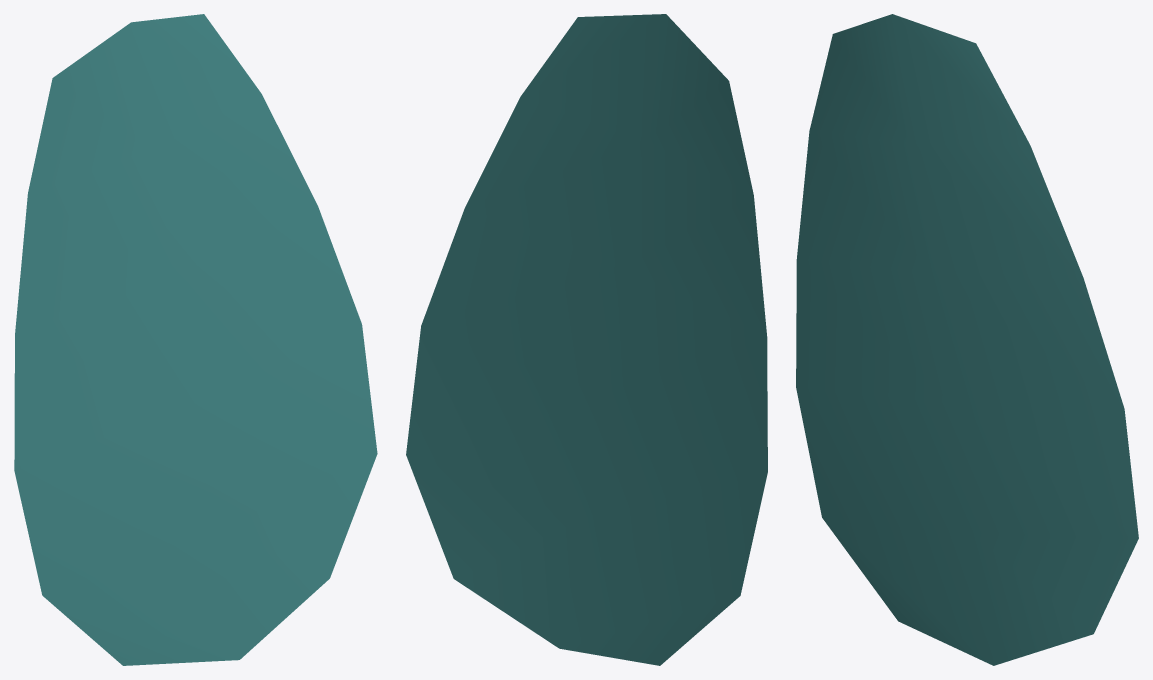
Rendered from budgie_feather_flight_tertiary_014.obj.
The picture shows the model from 3 angles, left to right: view 1: azimuth 30°, elevation 25°; view 2: azimuth 150°, elevation 25°; view 3: azimuth 330°, elevation 25°; orthographic projection. The views are drawn at different scales.
Visible parts, largest first — view 1: feather_flight_tertiary_014; view 2: feather_flight_tertiary_014; view 3: feather_flight_tertiary_014.
Part boxes in pixels (x1,y1,x2,y2): feather_flight_tertiary_014: [14, 14, 377, 665]; feather_flight_tertiary_014: [406, 14, 767, 665]; feather_flight_tertiary_014: [796, 14, 1138, 665].
Size of the model in its own units: 0.00865 by 0.0151 by 0.000352.
